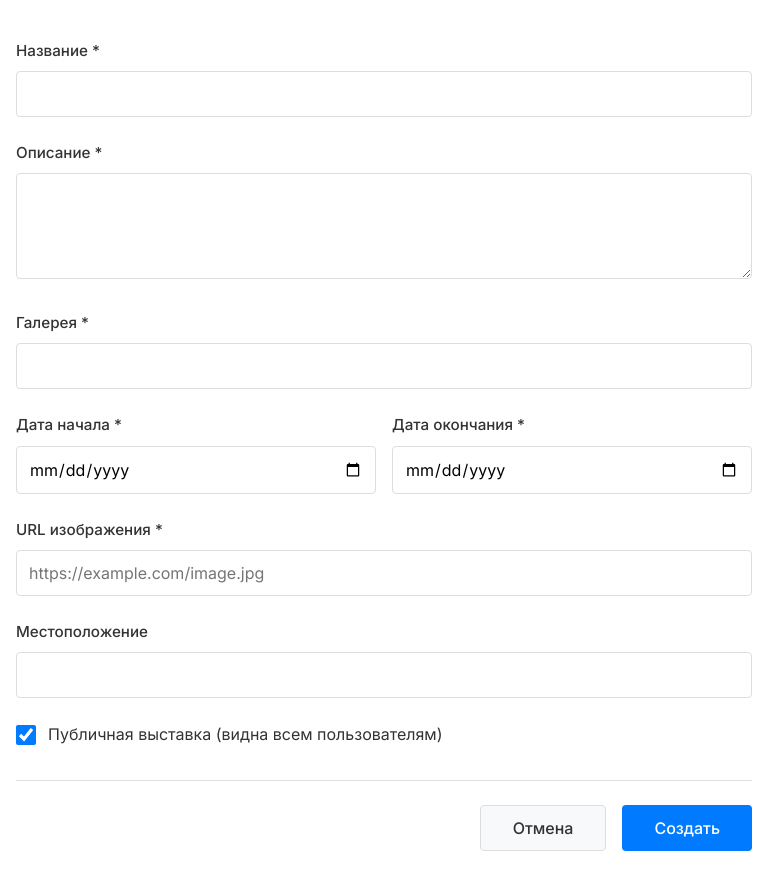
ExhibitionForm Component › clears field error when user starts typing
(page scrolled)
Click the button "Создать" at (687, 828), box [622,805,752,851]
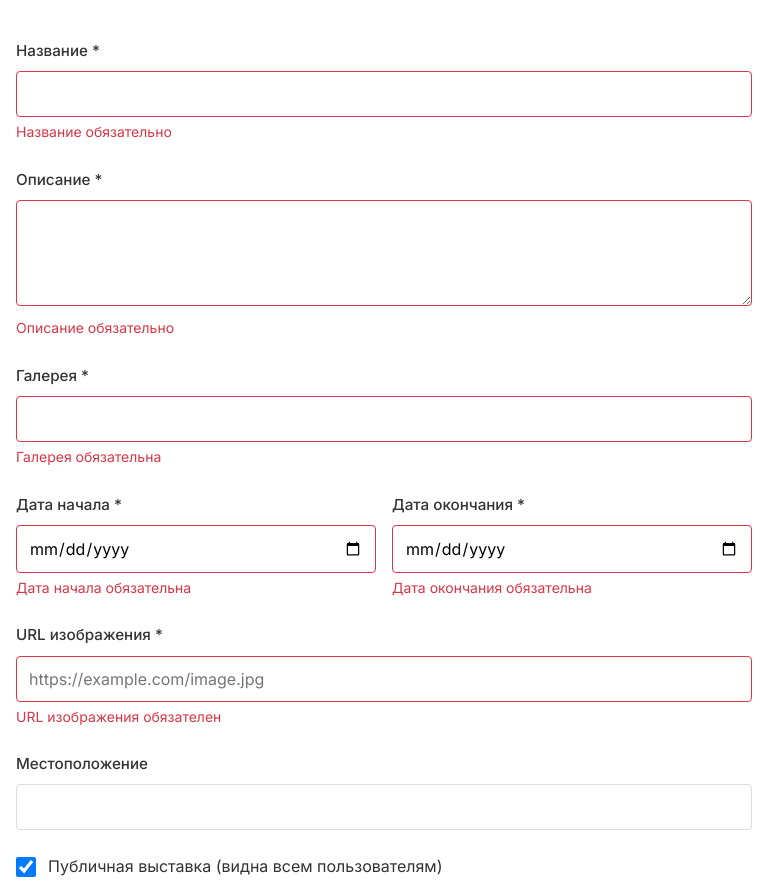
Result: the text "Название обязательно" is shown at [16,123,172,140]
Type "Новое название" into the field labelled "Название *" at (384, 94), box [16,71,752,117]
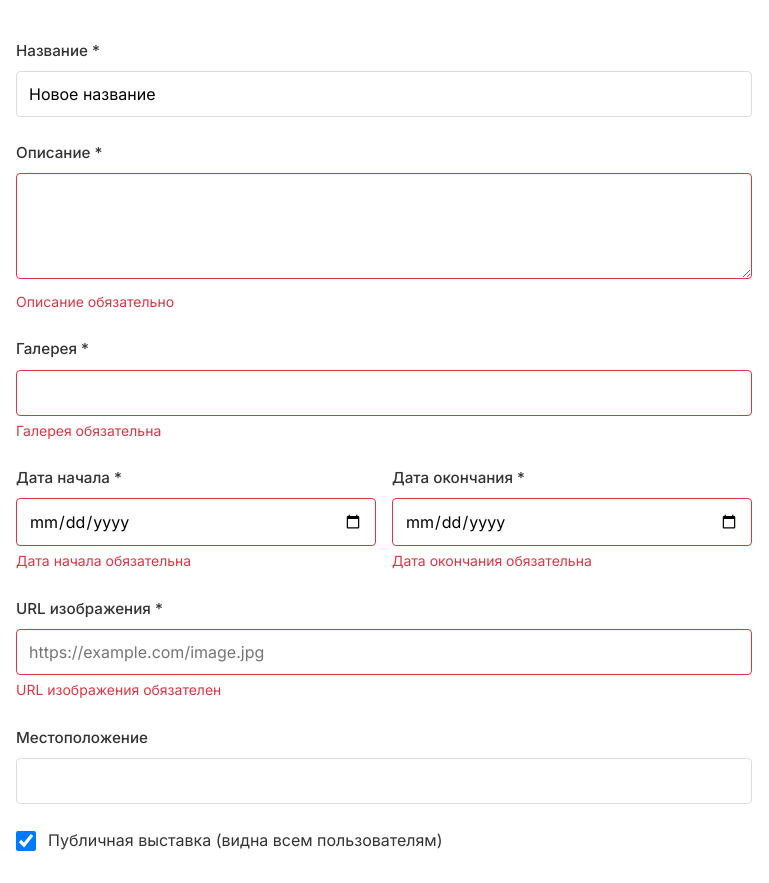
Result: the text "Название обязательно" is gone
